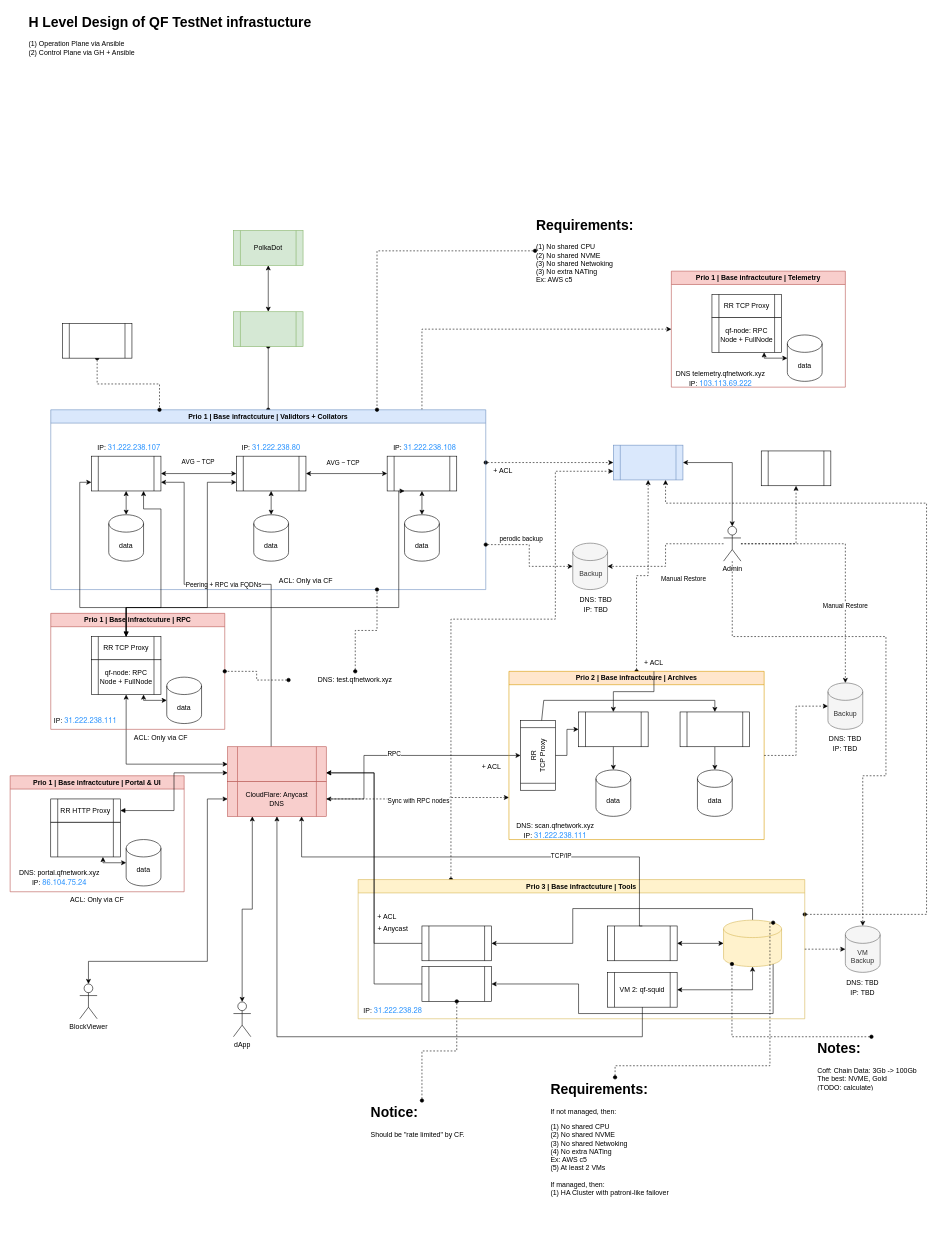
Image size: 942x1257. Some labels were removed from this diagram. The shapes that lost their labels are listed below. From the top down, each one's centre as x and y in pixels, then its label:
[97,340]: BitWarden
[268,329]: Parachain
[126,473]: VM1: qf-node: Validator + Collator 1
[271,473]: VM2: qf-node: Validator + Collator 2
[422,473]: VM3: qf-node: Validator + Collator 3
[648,462]: Prio 1 | VM (reused): Monitoring & Alerting
[796,468]: Limitations: no L1 - L2 support
[613,729]: qf-node: Arch node 1
[714,729]: qf-node: Arch node 2
[276,764]: CloudFlare CDN/Edge for W2/W3
[85,839]: PolkaJS Portal
[456,943]: VM 1: gql-server
[642,943]: VM 1: qf-squid
[752,943]: VM 1 and 2: PG Part. Cluster (Master -> Slave)
[456,983]: VM 2: gql-server
